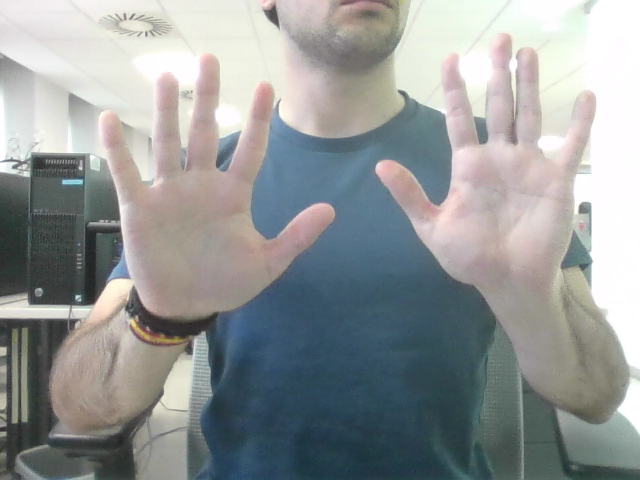Manos Arriba: (133, 55, 565, 280)
